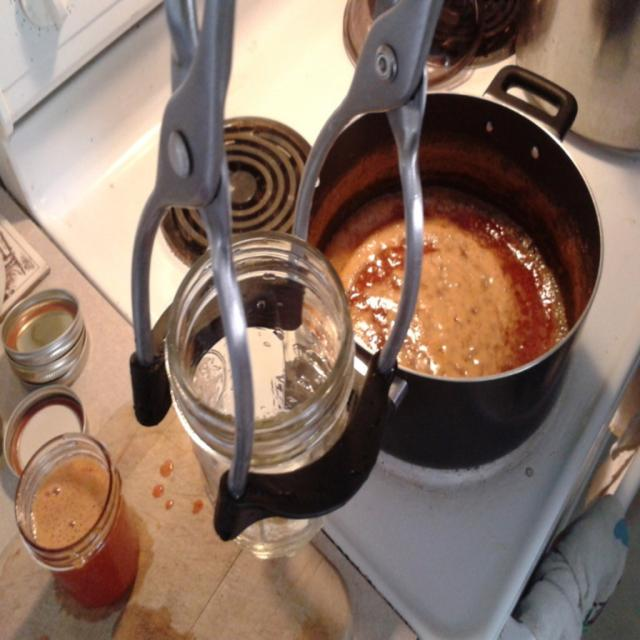Coffee: (324, 184, 570, 380), (28, 454, 143, 600)
